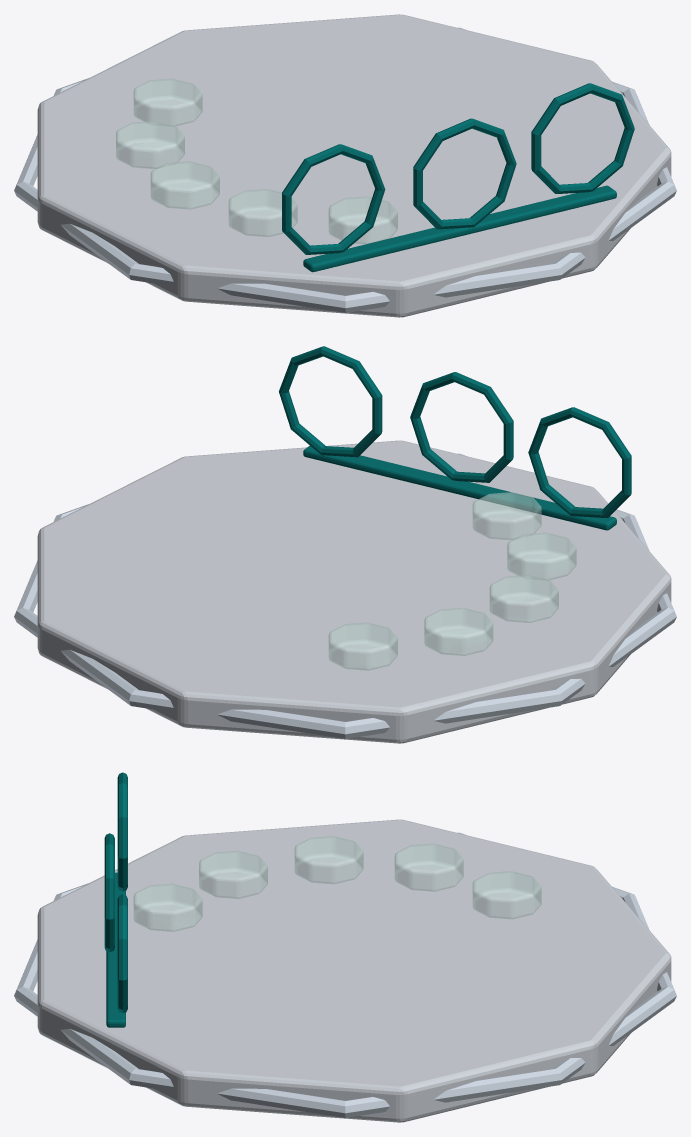
File: e04_chronnet.glb
The picture shows the model from 3 angles, top to bottom: view 1: azimuth 30°, elevation 25°; view 2: azimuth 150°, elevation 25°; view 3: azimuth 270°, elevation 25°; orthographic projection.
Visible parts, largest first — view 1: PLT_BASE_NONAGONO, PLT_ARO_METAL, MARCO_E04_BANDA, MARCO_E04_T3, MARCO_E04_T2, MARCO_E04_T1, PED_C, PED_A, PED_B, PED_D, PED_E; view 2: PLT_BASE_NONAGONO, PLT_ARO_METAL, MARCO_E04_BANDA, MARCO_E04_T3, MARCO_E04_T2, MARCO_E04_T1, PED_A, PED_C, PED_B, PED_D, PED_E; view 3: PLT_BASE_NONAGONO, PLT_ARO_METAL, PED_B, PED_C, PED_E, PED_A, PED_D, MARCO_E04_BANDA, MARCO_E04_T1, MARCO_E04_T3, MARCO_E04_T2.
Boxes of the visible parts, x1,y1,x2,y2 form: PLT_BASE_NONAGONO: [37, 14, 671, 317]; PLT_ARO_METAL: [14, 27, 676, 312]; MARCO_E04_BANDA: [303, 185, 616, 272]; MARCO_E04_T3: [531, 83, 634, 193]; MARCO_E04_T2: [413, 118, 516, 229]; MARCO_E04_T1: [282, 144, 385, 254]; PED_C: [150, 161, 219, 209]; PED_A: [133, 78, 202, 125]; PED_B: [116, 121, 184, 168]; PED_D: [228, 189, 297, 236]; PED_E: [328, 196, 397, 244]; PLT_BASE_NONAGONO: [37, 440, 671, 743]; PLT_ARO_METAL: [14, 453, 676, 738]; MARCO_E04_BANDA: [303, 445, 616, 530]; MARCO_E04_T3: [279, 346, 382, 457]; MARCO_E04_T2: [410, 372, 513, 482]; MARCO_E04_T1: [528, 407, 631, 517]; PED_A: [328, 622, 397, 670]; PED_C: [489, 575, 558, 622]; PED_B: [424, 608, 493, 655]; PED_D: [507, 532, 576, 580]; PED_E: [472, 492, 541, 540]; PLT_BASE_NONAGONO: [37, 819, 671, 1122]; PLT_ARO_METAL: [14, 832, 676, 1117]; PED_B: [394, 843, 463, 891]; PED_C: [294, 836, 363, 884]; PED_E: [133, 883, 202, 931]; PED_A: [472, 871, 541, 919]; PED_D: [199, 850, 267, 898]; MARCO_E04_BANDA: [106, 872, 125, 1027]; MARCO_E04_T1: [117, 772, 127, 891]; MARCO_E04_T3: [117, 894, 127, 1012]; MARCO_E04_T2: [104, 833, 114, 952].
Size of what is drawn, in the model's own units: 10.05 by 2.52 by 10.12.
